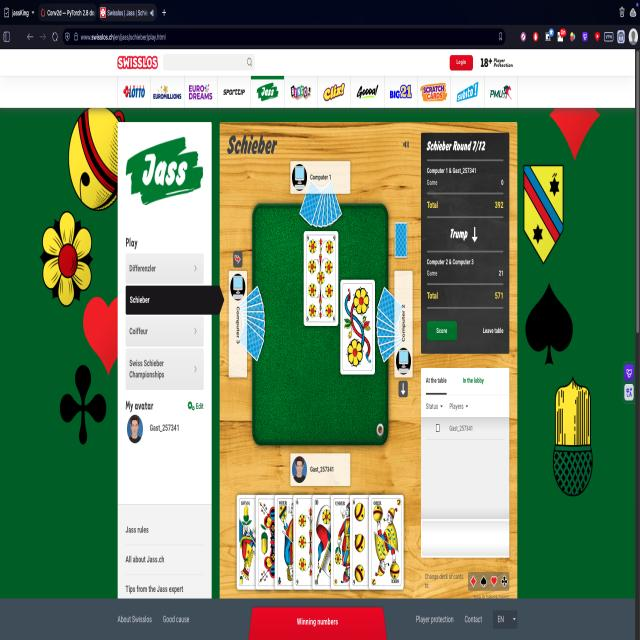eia: (256, 494, 288, 594)
eik: (238, 497, 269, 586)
ro10: (313, 492, 345, 591)
ro6: (305, 232, 338, 325), (294, 495, 326, 589)
roa: (342, 281, 376, 373)
rou: (333, 494, 366, 590)
se6: (350, 493, 386, 588)
seo: (370, 494, 402, 591)
sio: (275, 493, 309, 594)
